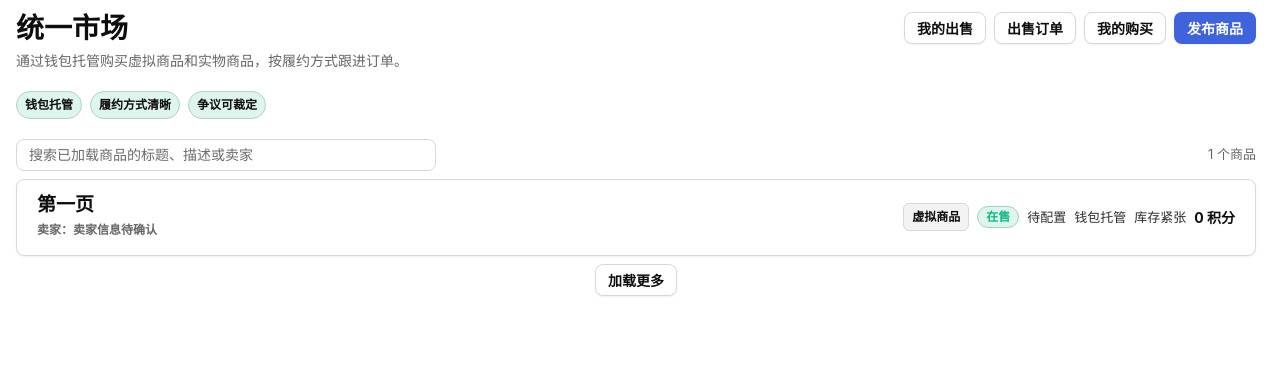
Test: Unified market views › appends listing pages and retries the same page after a failure
Click the button with test id "market-load-more": (636, 280) [595,264,677,296]
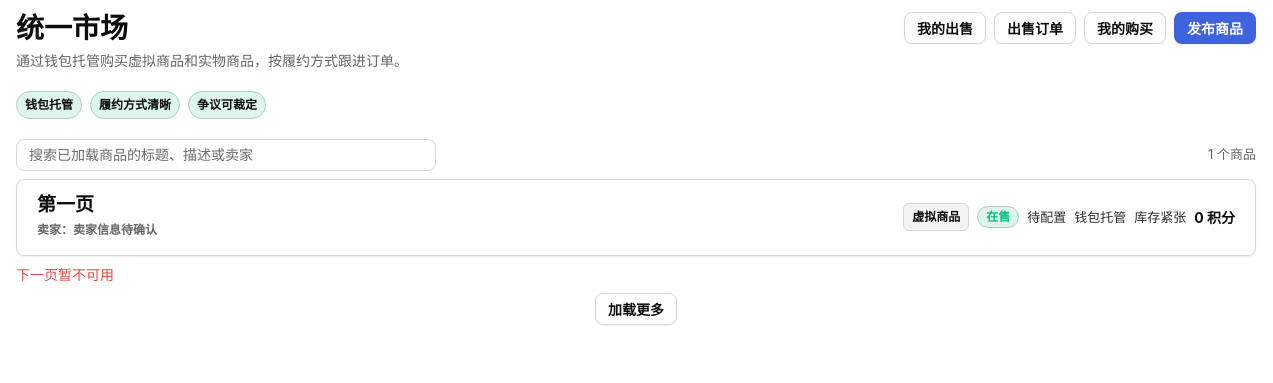
expect the text "下一页暂不可用" is shown: met, box [16,266,114,283]
Click the button with test id "market-load-more": (636, 309) [595,293,677,325]
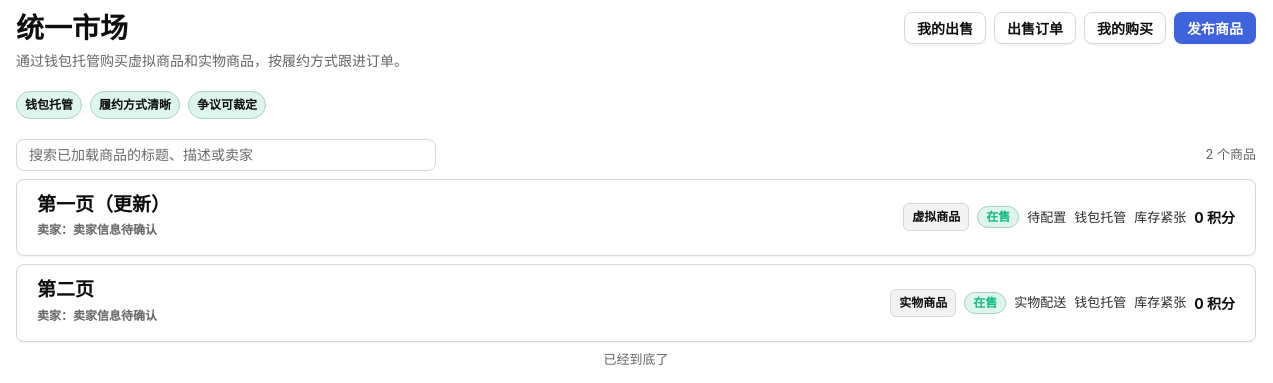
expect the number of links with class "market-listing" is 2: met, box [16,179,1256,256]; [16,264,1256,342]
expect the text "第一页（更新）" is shown: met, box [37,193,170,216]
expect the text "第二页" is shown: met, box [37,278,94,301]
